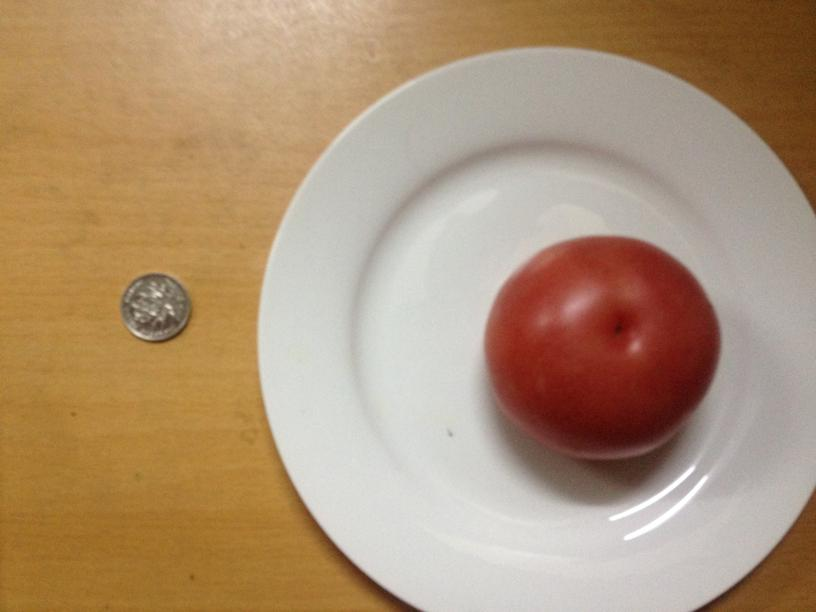coin: (121, 273, 191, 340)
tomato: (481, 234, 724, 463)
